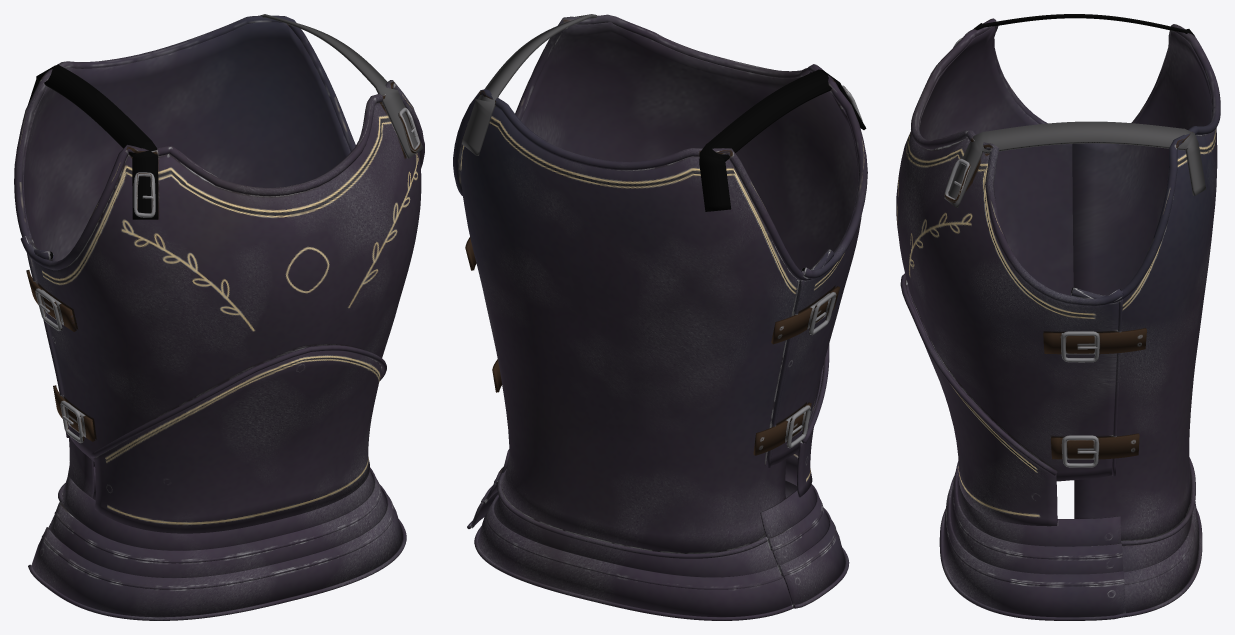
Rendered from SM_ObsidianSovereign_Chest.fbx.
3 renders of one model, left to right at view 1: azimuth 30°, elevation 25°; view 2: azimuth 150°, elevation 25°; view 3: azimuth 270°, elevation 25°, orthographic. The views are drawn at different scales.
Visible parts, largest first — view 1: SM_ObsidianSovereign_Chest; view 2: SM_ObsidianSovereign_Chest; view 3: SM_ObsidianSovereign_Chest.
Part boxes in pixels (x1,y1,x2,y2): SM_ObsidianSovereign_Chest: (14,14,424,620); SM_ObsidianSovereign_Chest: (453,14,867,620); SM_ObsidianSovereign_Chest: (896,14,1220,620).
Bounding box in the file's own units: 37.98 × 30.99 × 50.14.
